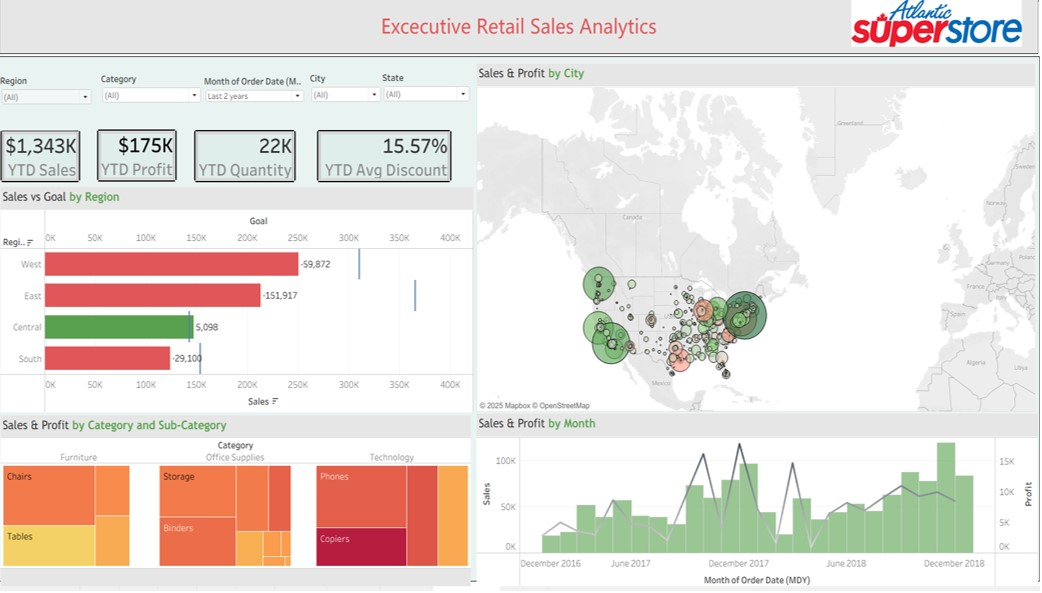

Layout of this report page (visuals, bound fields, positions):
{"tool":"tableau","page":{"name":"Dashboard 1","canvas":[1000,1000],"units":"permille","ordinal":0},"visuals":[{"type":"title","box":[4.8,10,990.3,126.1]},{"type":"image","param":"Image/images (2).png","box":[803.9,13.7,185.9,79.9]},{"type":"worksheet","title":"Sheet 3","mark":"Automatic","box":[459.9,122.4,530.5,585.5]},{"type":"filter","title":"Sheet 3","param":"[federated.0974xi70v1cdtx19caara1hgp8do].[none:State:nk]","box":[370.6,134.8,84.5,124.8]},{"type":"filter","title":"Sheet 3","param":"[federated.0974xi70v1cdtx19caara1hgp8do].[none:City:nk]","box":[301.8,136.1,68.8,124.8]},{"type":"filter","title":"Sheet 4","param":"[federated.0974xi70v1cdtx19caara1hgp8do].[none:Category:nk]","box":[103.2,137.3,96.6,149.8]},{"type":"filter","title":"Sheet 2","param":"[federated.0974xi70v1cdtx19caara1hgp8do].[none:Region:nk]","box":[7.2,139.8,88.7,94.9]},{"type":"filter","title":"Sheet 5","param":"[federated.0974xi70v1cdtx19caara1hgp8do].[tmn:Order Date (MDY):qk]","box":[201,141.1,96.6,81.2]},{"type":"worksheet","title":"Sheet 6 (2)","mark":"Automatic","box":[99.6,232.2,112.2,131.1]},{"type":"worksheet","title":"Sheet 6","mark":"Automatic","box":[7.9,233.5,99,111.1]},{"type":"worksheet","title":"Sheet 6 (3)","mark":"Automatic","box":[191.9,233.5,333.1,333.3]},{"type":"worksheet","title":"Sheet 6 (4)","mark":"Automatic","box":[308.4,233.5,333.1,333.3]},{"type":"worksheet","title":"Sheet 2","mark":"Automatic","rows":["Region"],"cols":["Sales","Goal"],"box":[7.9,329.6,449,378.3]}]}

Visuals, with their boxes on the dashboard's canvas, which has no fixed pixel size, in thousandths of its width and height (x1, y1, x2, y2). These are canvas units, not pixel positions in the 1042x593 screenshot, which may show the page scaled, cropped or inside an application window:
title: (5,10,995,136)
image: (804,14,990,94)
"Sheet 3" worksheet: (460,122,990,708)
"Sheet 3" filter: (371,135,455,260)
"Sheet 3" filter: (302,136,371,261)
"Sheet 4" filter: (103,137,200,287)
"Sheet 2" filter: (7,140,96,235)
"Sheet 5" filter: (201,141,298,222)
"Sheet 6 (2)" worksheet: (100,232,212,363)
"Sheet 6" worksheet: (8,234,107,345)
"Sheet 6 (3)" worksheet: (192,234,525,567)
"Sheet 6 (4)" worksheet: (308,234,642,567)
"Sheet 2" worksheet: (8,330,457,708)
